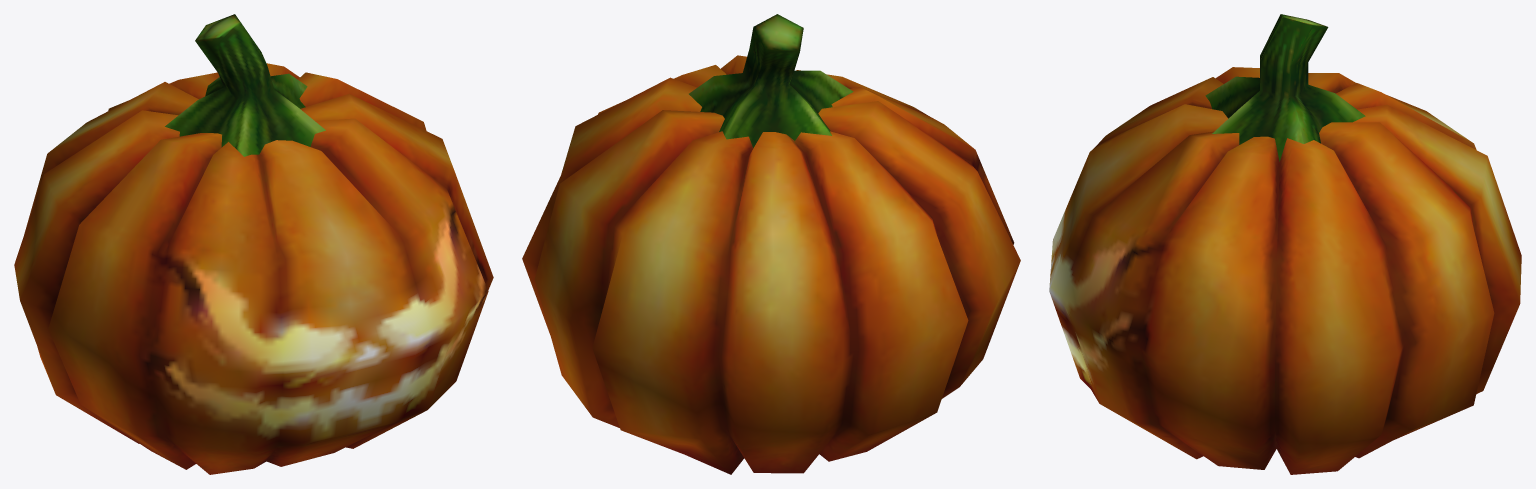
The model's file is fuel-cell-lod0.glb.
3 views of the same model, side by side, from view 1: azimuth 30°, elevation 25°; view 2: azimuth 150°, elevation 25°; view 3: azimuth 270°, elevation 25° (orthographic). The views are drawn at different scales.
Visible parts, largest first — view 1: Halloween_hat; view 2: Halloween_hat; view 3: Halloween_hat.
Part boxes in pixels (box(x1,y1,x2,y2)): Halloween_hat: box(14, 14, 493, 474); Halloween_hat: box(522, 14, 1020, 474); Halloween_hat: box(1049, 14, 1521, 474).
Bounding box in the file's own units: 1.38 × 1.27 × 1.34.
Materials: 1 (1 with a texture image).
